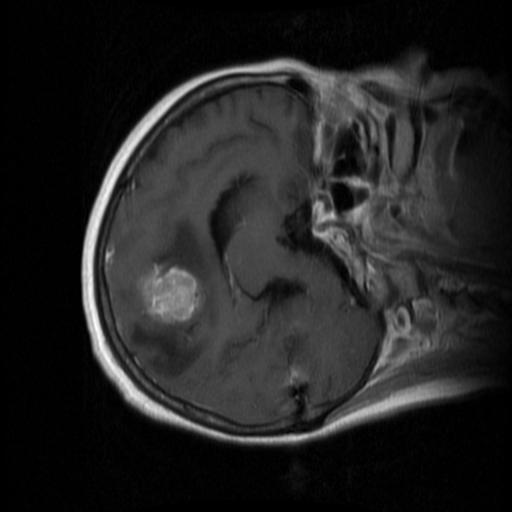meningioma: (138, 263, 201, 327)
